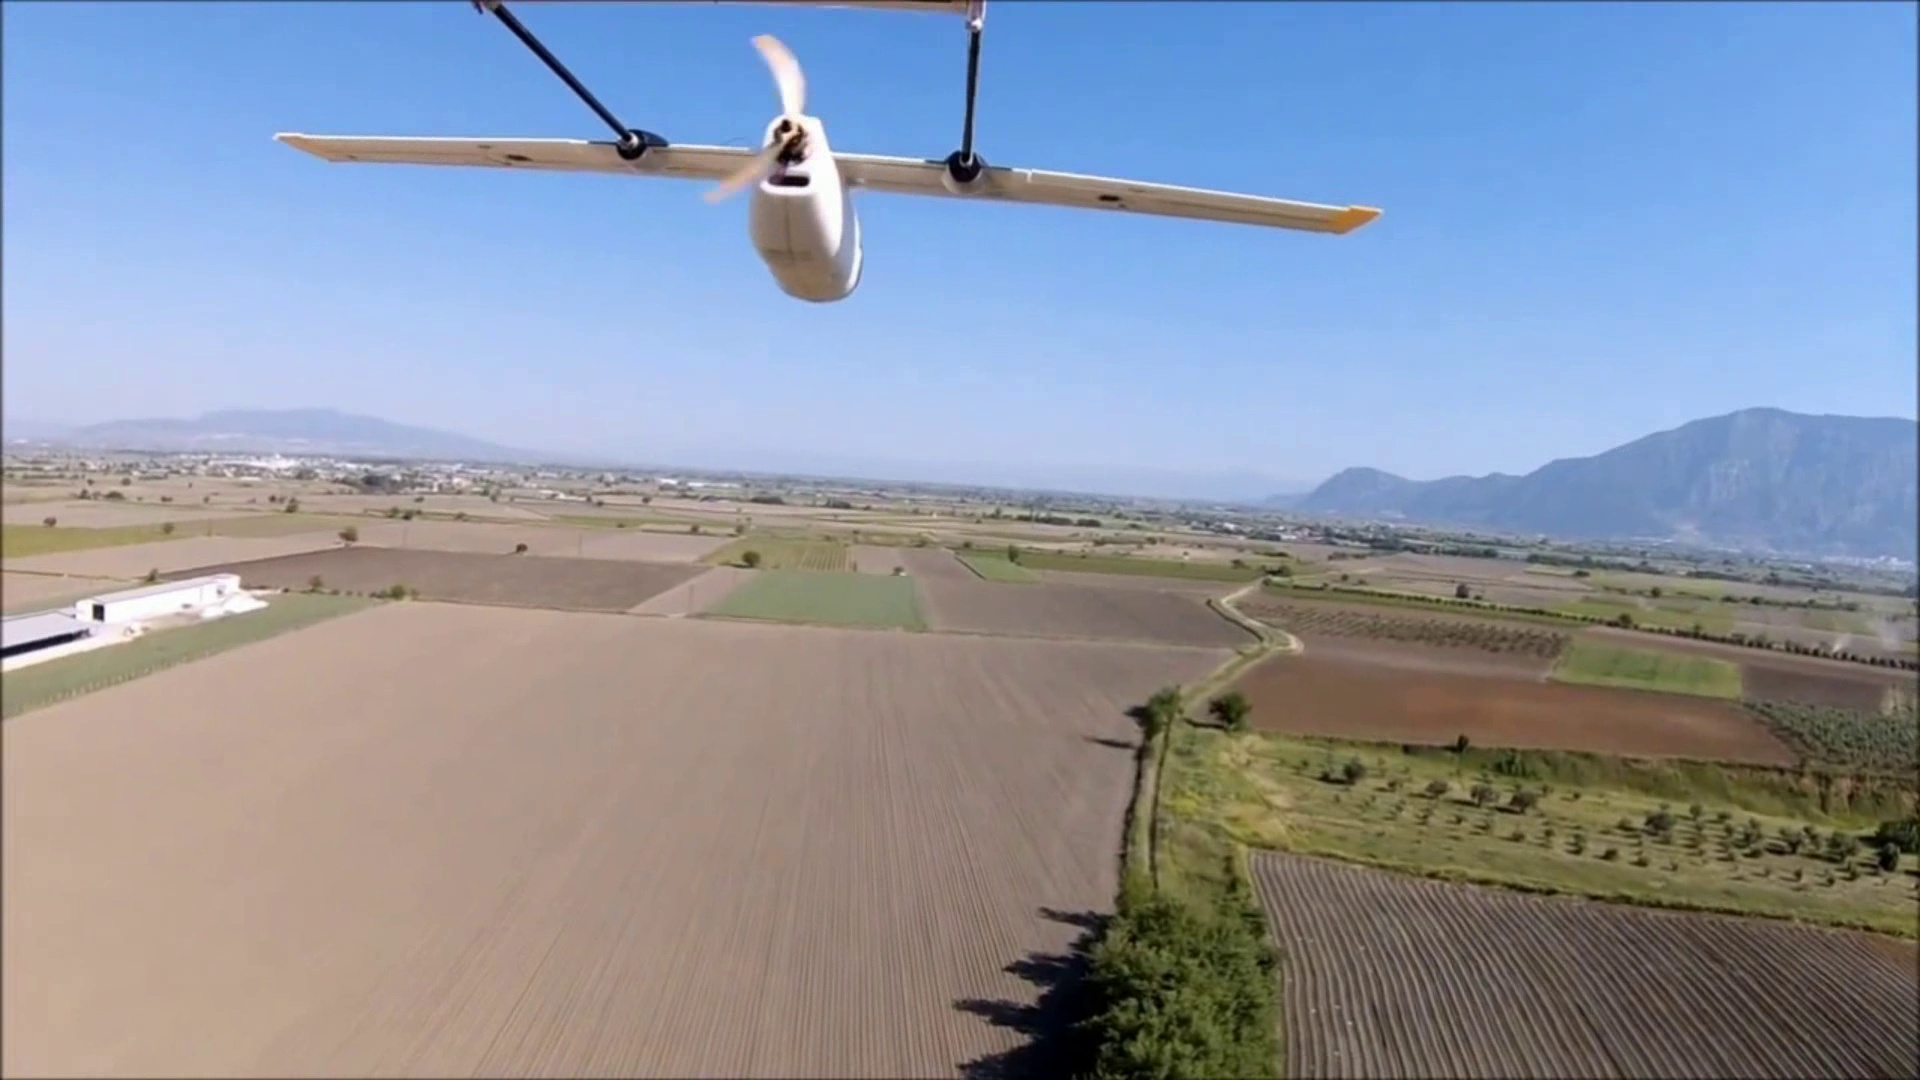airplane: (276, 7, 1379, 301)
